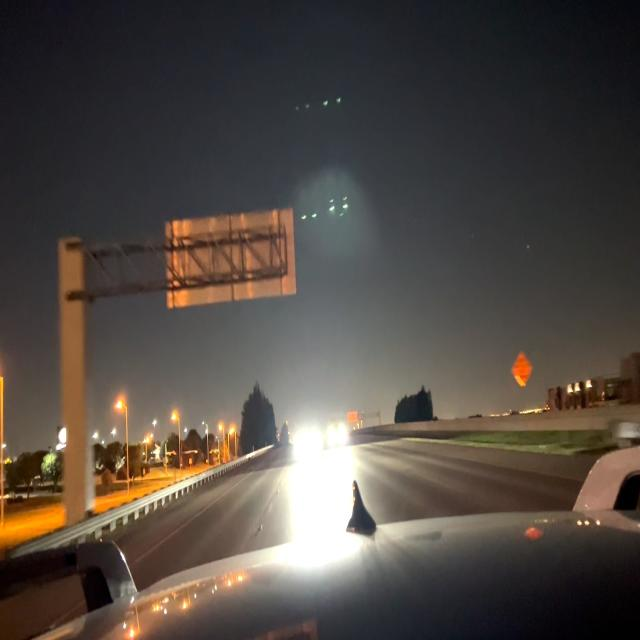back-of-sign: (163, 205, 298, 314)
